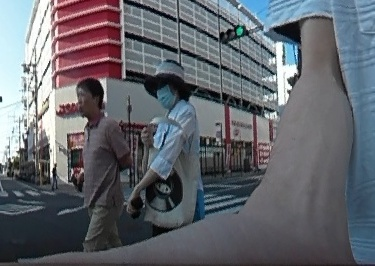person: (140, 59, 206, 232), (71, 74, 128, 251), (49, 161, 59, 191)
